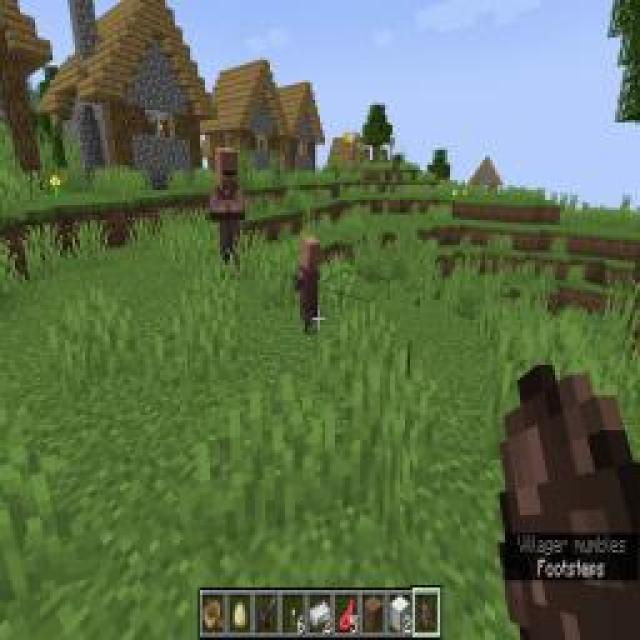Villager House: (205, 145, 247, 265), (288, 227, 324, 325)
